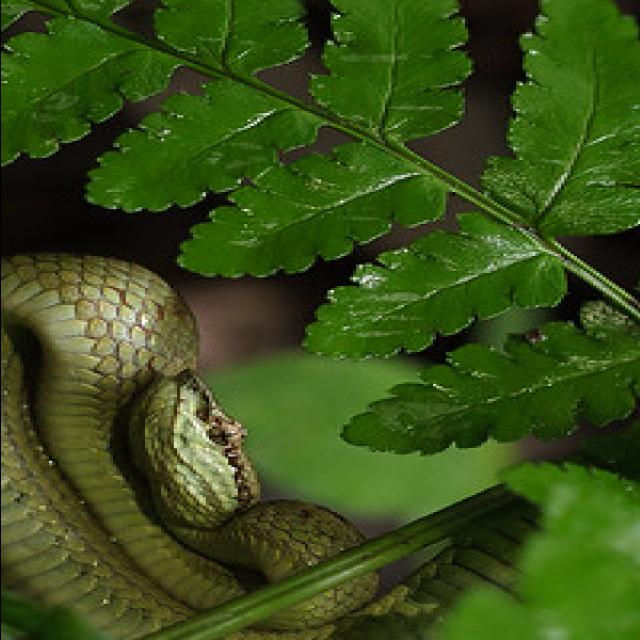Snake: (0, 250, 567, 640)
